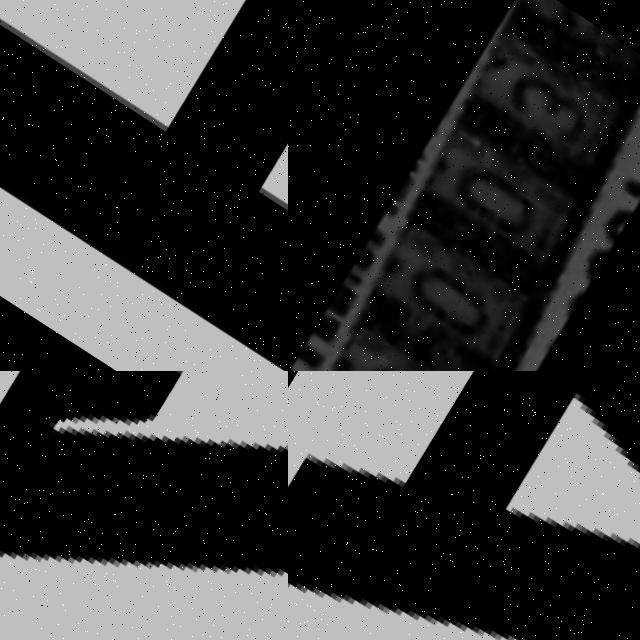0: (392, 256, 507, 356), (441, 158, 556, 258)
3: (493, 67, 606, 164), (545, 2, 638, 74)
A: (288, 371, 640, 640)
H: (0, 0, 288, 371)
Z: (0, 371, 288, 640)
